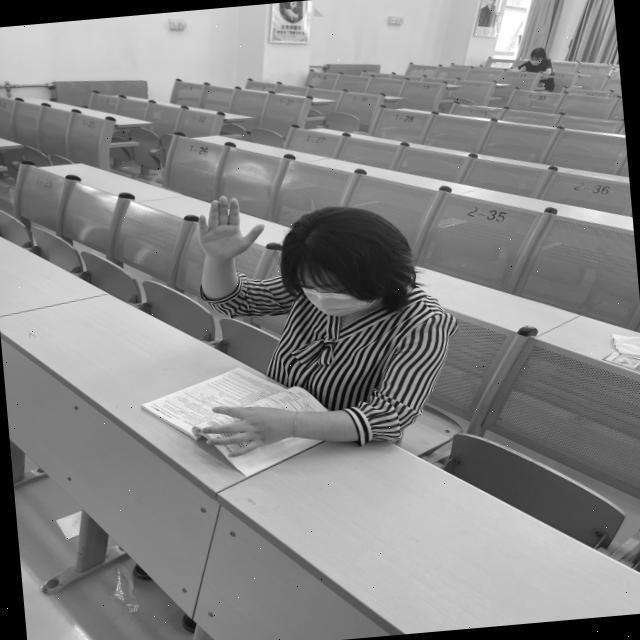study: (123, 171, 468, 476)
